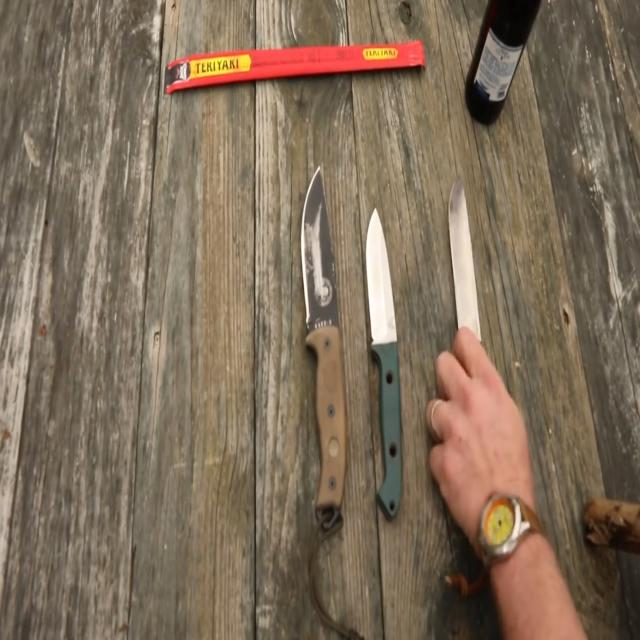knife: (300, 166, 354, 533), (364, 202, 406, 519), (447, 171, 488, 344)
